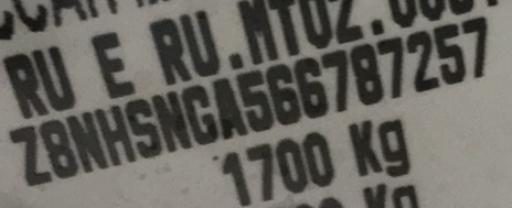letter: (61, 109, 113, 170), (232, 67, 276, 135), (8, 121, 54, 186), (93, 101, 139, 164), (150, 88, 194, 152), (260, 62, 304, 126), (37, 118, 81, 179), (122, 97, 166, 157), (180, 82, 222, 144), (430, 21, 468, 86), (318, 48, 356, 112), (212, 76, 250, 140), (406, 27, 442, 94), (350, 41, 386, 107), (294, 54, 330, 118), (461, 15, 495, 80), (375, 34, 409, 99)
